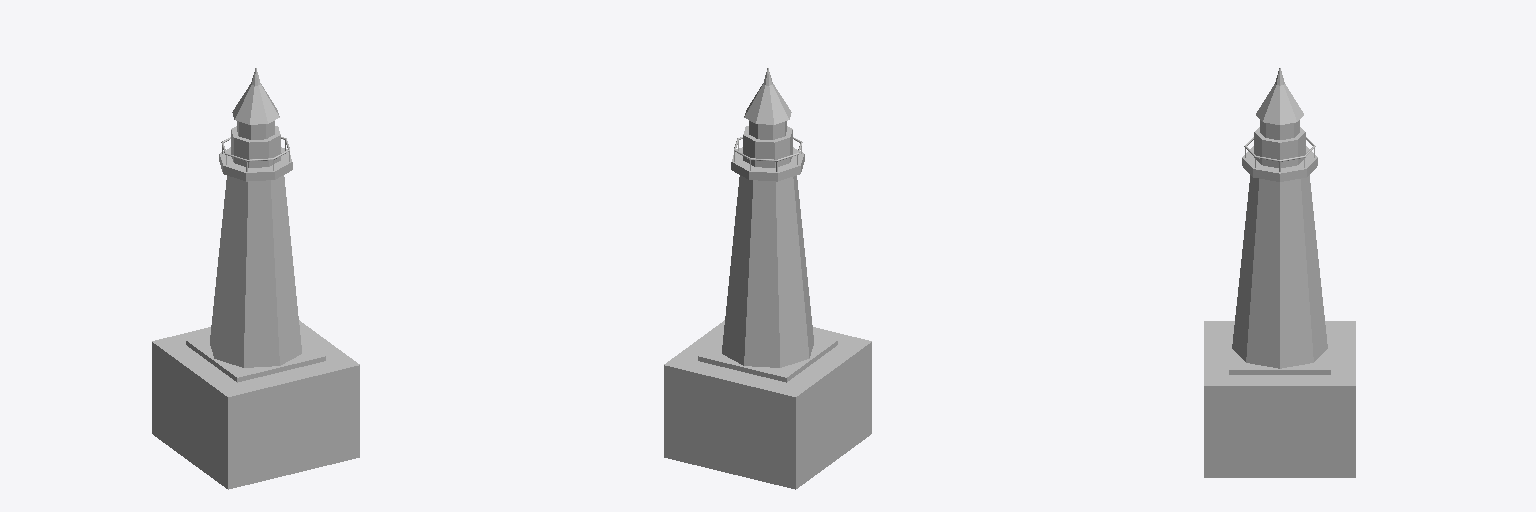
Rendered from lighthouse2.obj.
The picture shows the model from 3 angles: view 1: azimuth 30°, elevation 25°; view 2: azimuth 150°, elevation 25°; view 3: azimuth 270°, elevation 25°; orthographic projection.
Parts seen in each view (by area): view 1: 1, 3, 2, 5, 7, 4, 6; view 2: 1, 3, 2, 5, 7, 4, 6; view 3: 1, 3, 2, 5, 7, 4, 6.
Part boxes in pixels (x1,y1,x2,y2): 1: (152, 320, 359, 489); 3: (210, 175, 301, 367); 2: (186, 335, 325, 382); 5: (231, 126, 280, 167); 7: (232, 84, 279, 124); 4: (219, 147, 292, 181); 6: (237, 121, 274, 139); 1: (664, 320, 871, 489); 3: (722, 175, 813, 367); 2: (698, 335, 837, 382); 5: (743, 126, 792, 167); 7: (744, 84, 791, 124); 4: (731, 147, 804, 181); 6: (749, 121, 786, 139); 1: (1204, 321, 1355, 477); 3: (1232, 175, 1327, 368); 2: (1229, 327, 1330, 374); 5: (1254, 127, 1305, 167); 7: (1256, 84, 1303, 124); 4: (1242, 146, 1317, 181); 6: (1260, 120, 1299, 139).
Bounding box in the file's own units: 3 × 8.21 × 3.